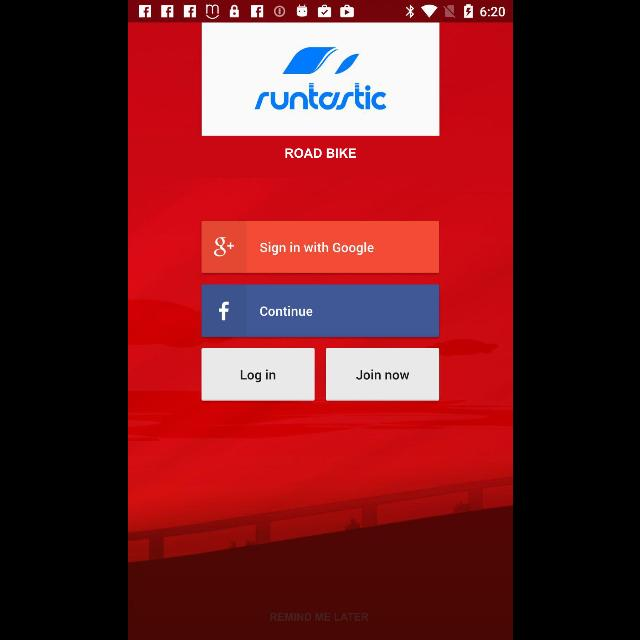image: (202, 23, 438, 136)
text: (270, 614, 368, 620), (285, 150, 355, 158)
textbutton: (202, 285, 438, 337), (202, 221, 438, 273), (200, 349, 314, 401), (326, 349, 438, 401)
uppertaskbar: (128, 1, 512, 23)
